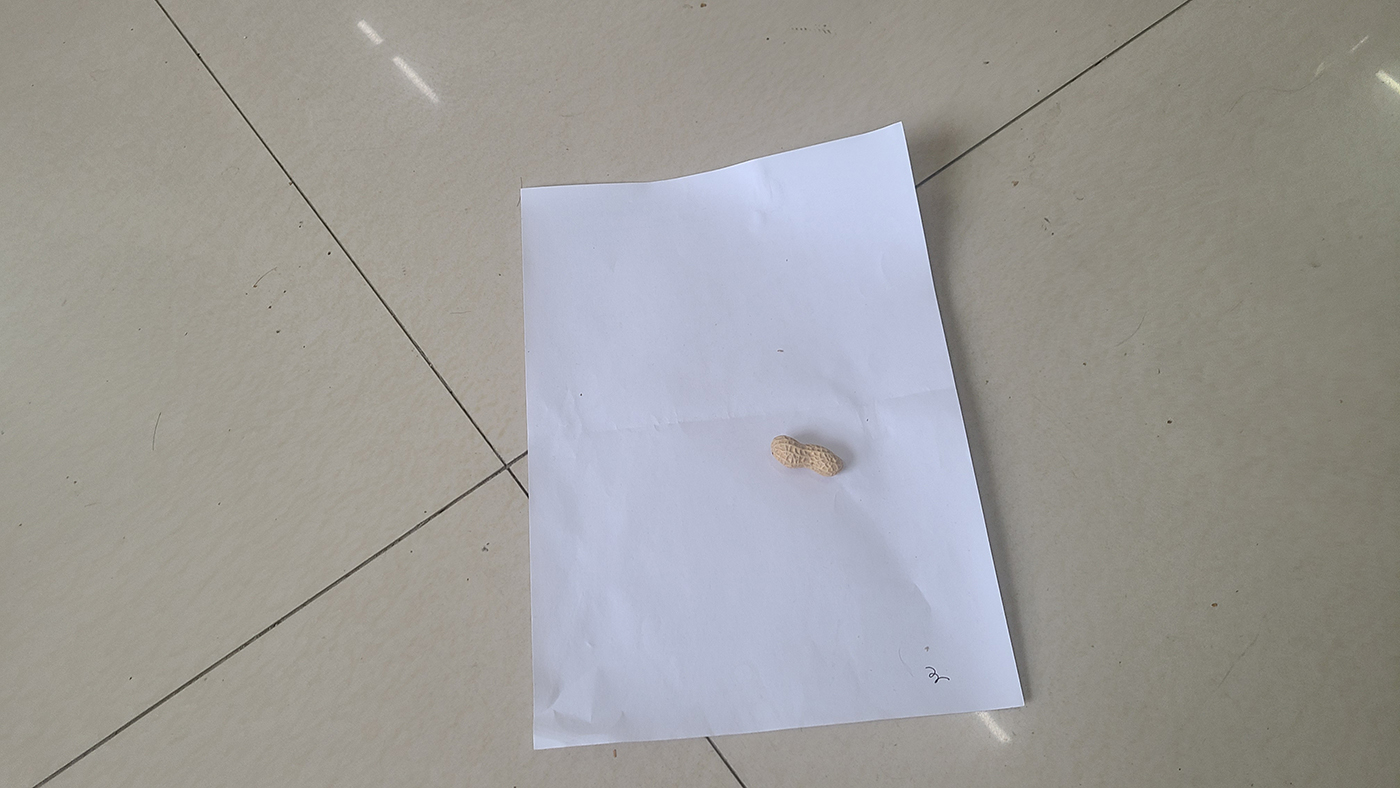h: (770, 435, 845, 477)
